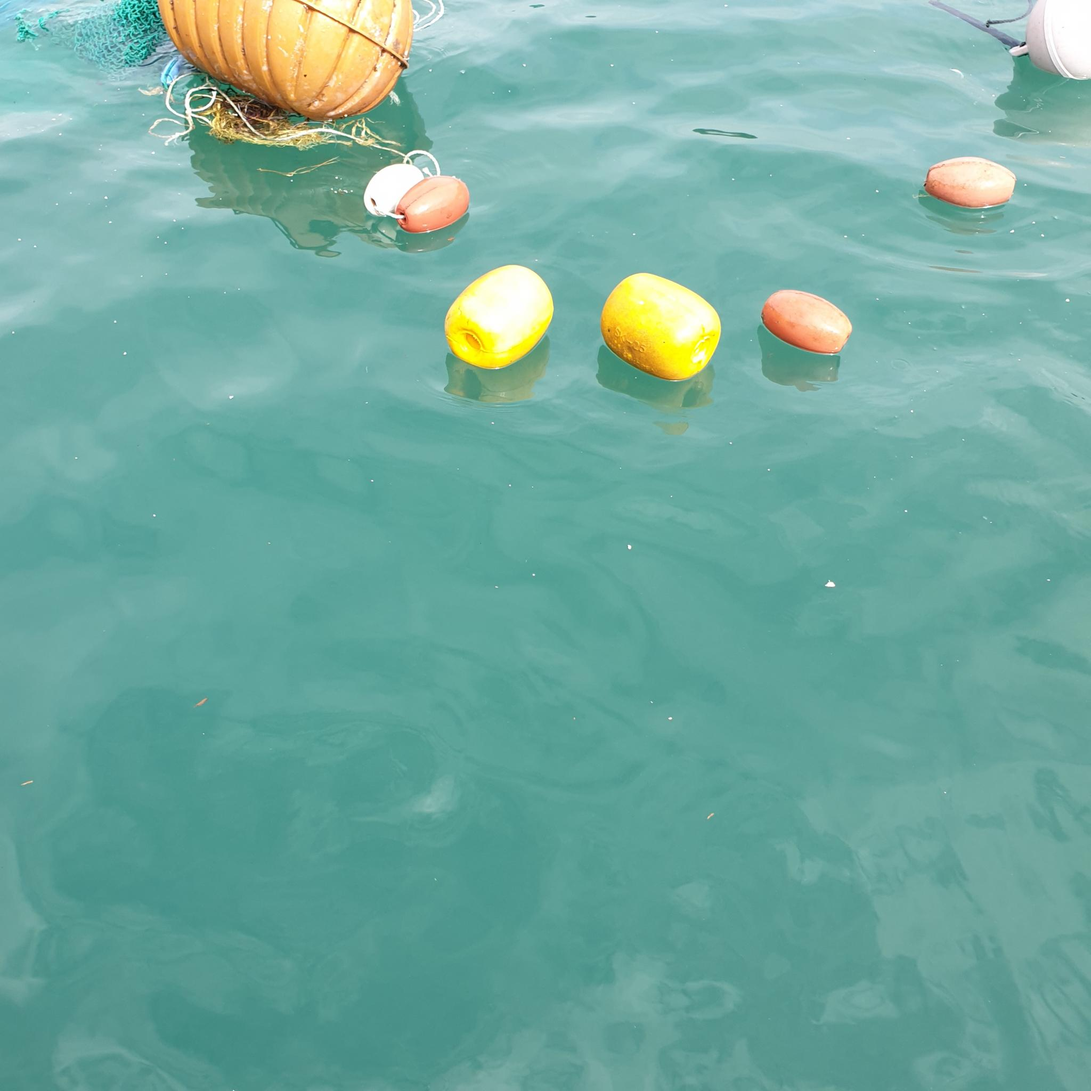sampah_terapung: (149, 71, 442, 177), (158, 1, 414, 121), (1, 1, 170, 81), (601, 272, 722, 382), (445, 265, 555, 370), (1010, 1, 1091, 81), (762, 289, 853, 355), (925, 157, 1017, 209), (395, 176, 470, 234), (364, 164, 425, 217), (987, 1, 1033, 26), (414, 1, 445, 31), (161, 57, 183, 91)
